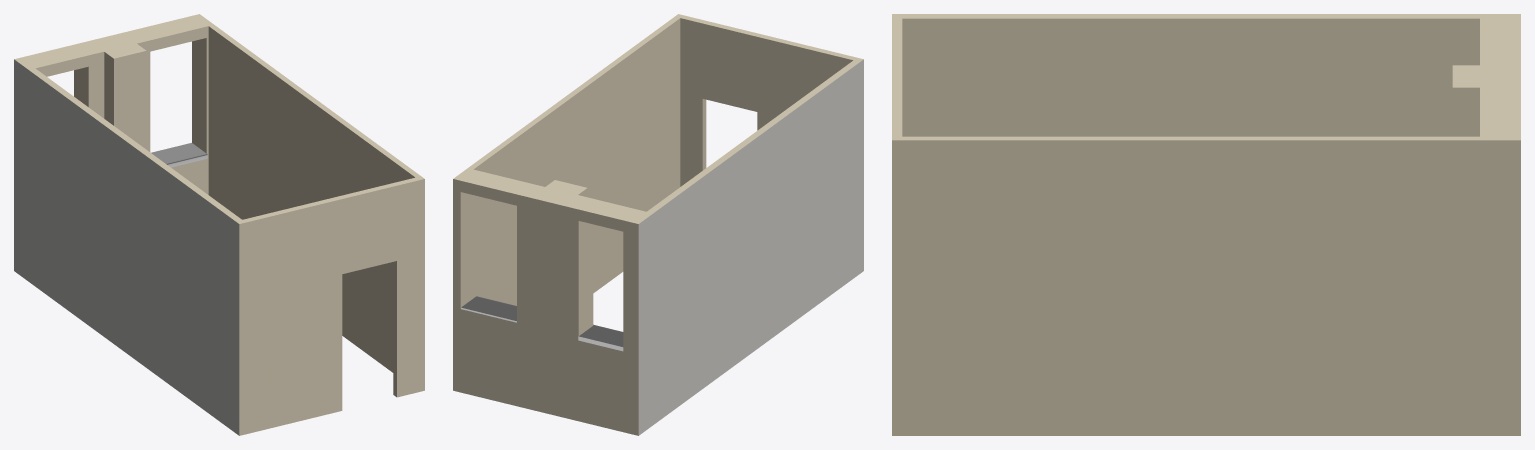
The model's file is RoomBox.fbx.
The picture shows the model from 3 angles, left to right: view 1: azimuth 30°, elevation 25°; view 2: azimuth 150°, elevation 25°; view 3: azimuth 270°, elevation 25°; orthographic projection. The views are drawn at different scales.
Parts seen in each view (by area): view 1: Box001; view 2: Box001; view 3: Box001.
Part boxes in pixels (x1=…): Box001: x1=14, y1=14, x2=424, y2=435; Box001: x1=453, y1=14, x2=863, y2=435; Box001: x1=892, y1=14, x2=1520, y2=435.
Bounding box in the file's own units: 2.86 × 3.12 × 6.02.
